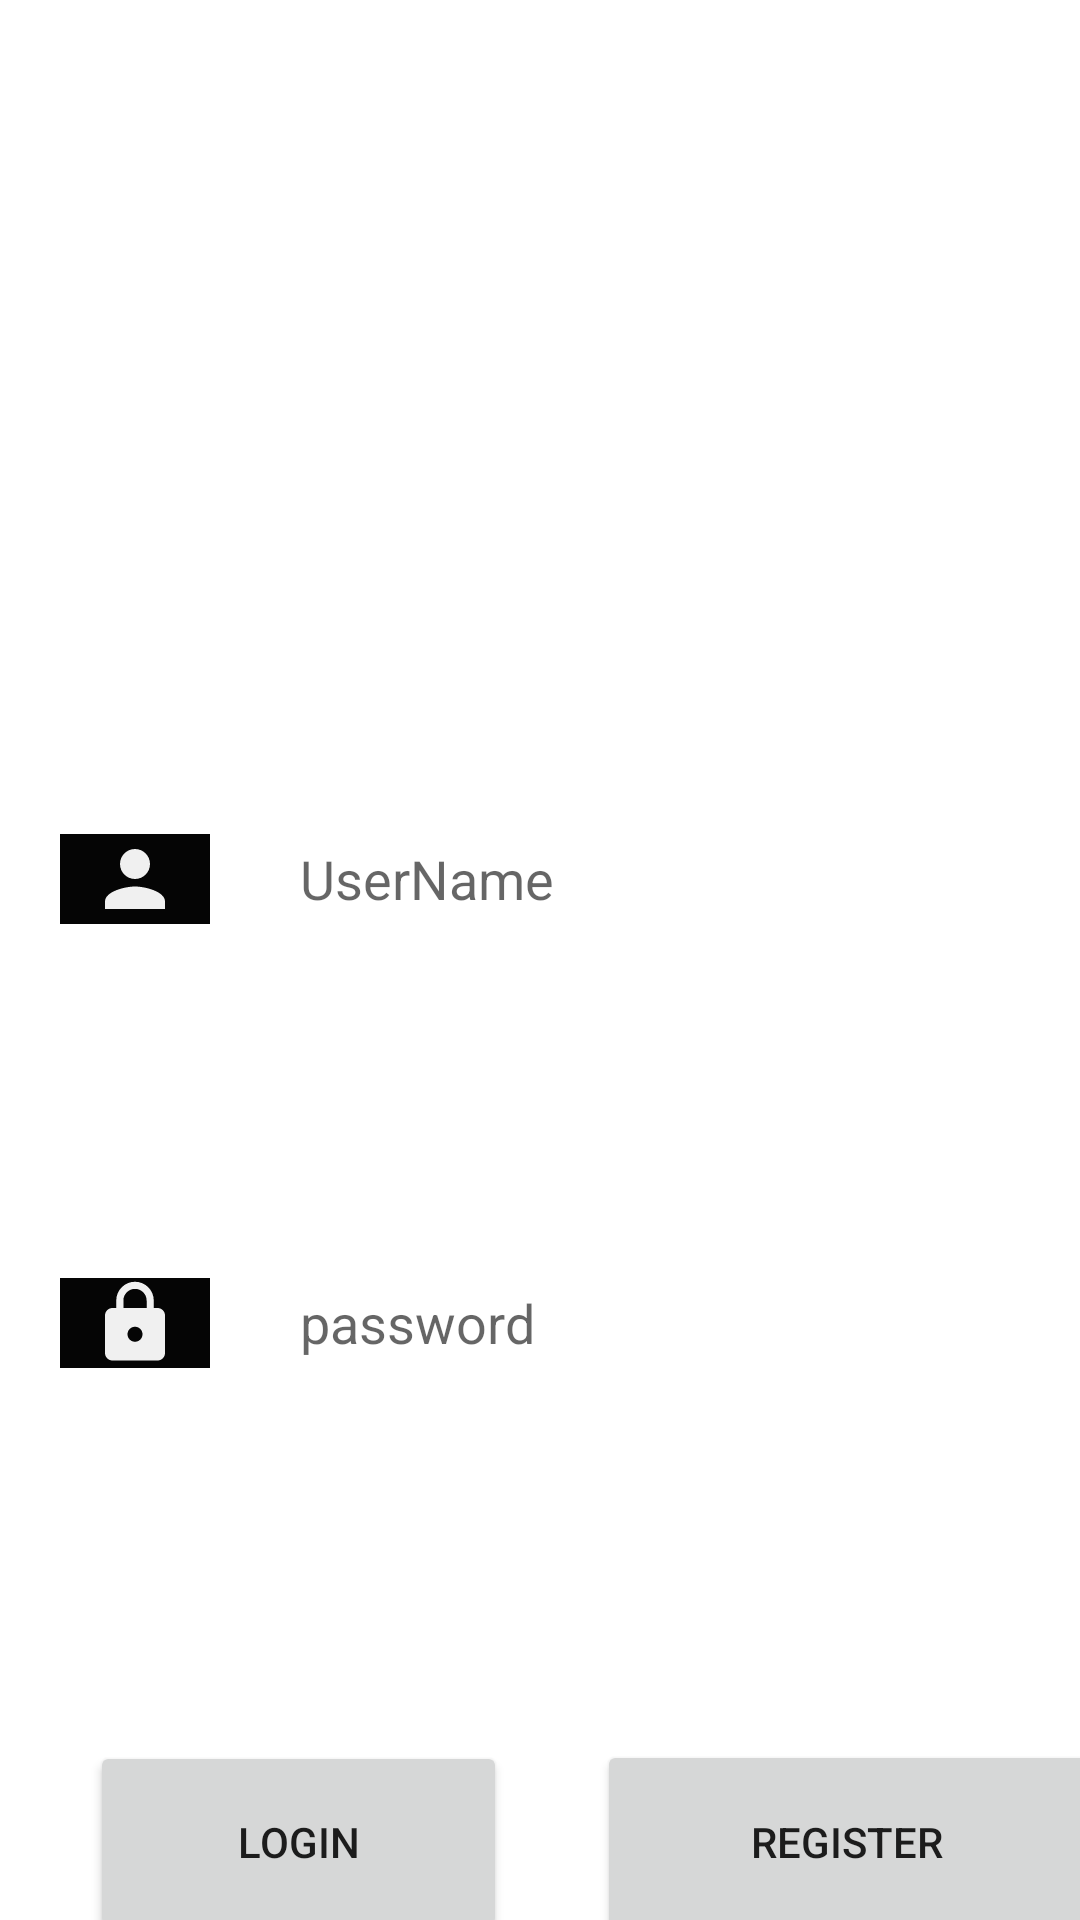

Named icons in this screenshot (1080×1920) and their bounding boxes, (x1=x1, y1=y1, x2=x2, y2=y2):
lock: (x1=60, y1=1278, x2=210, y2=1368)
